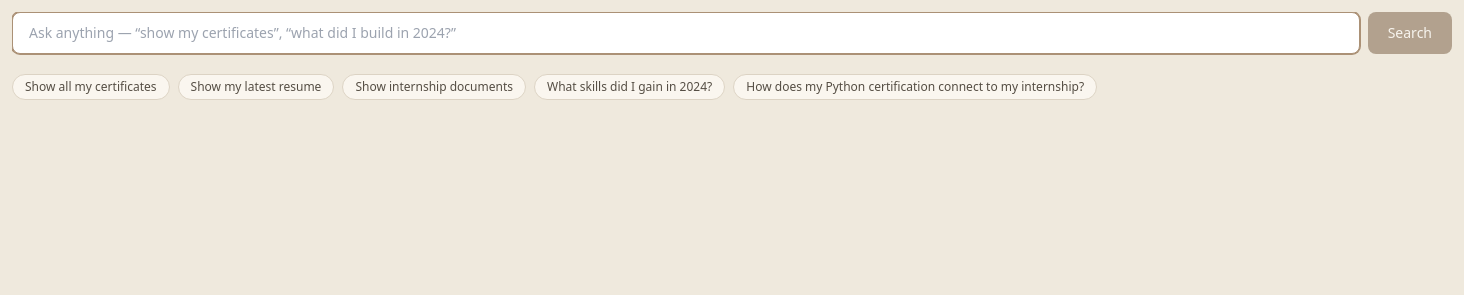
it: Search Ask AI › offers Ask AI on a non-question query and synthesizes on click
The image size is (1464, 295).
Type "show all my certificates" into the search field. click: {"x": 686, "y": 33}
box: [12,12,1360,54]
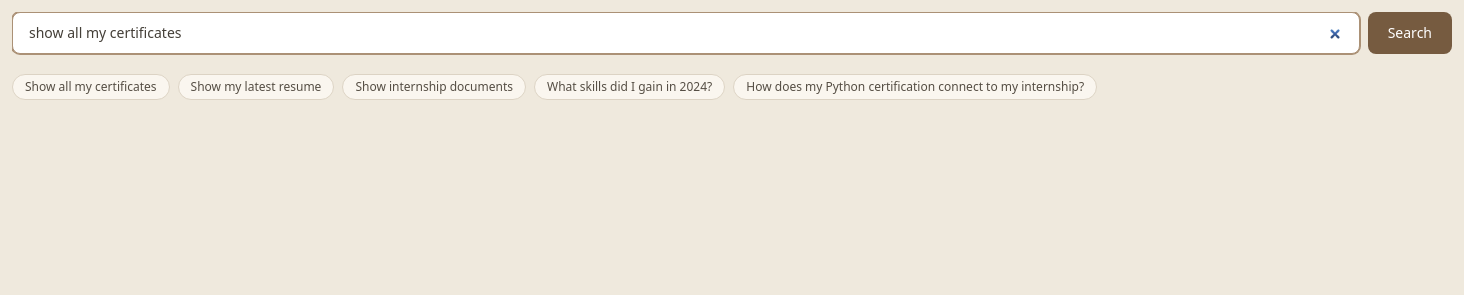
Click the button "Search". click: {"x": 1410, "y": 33}
box: [1368,12,1452,54]
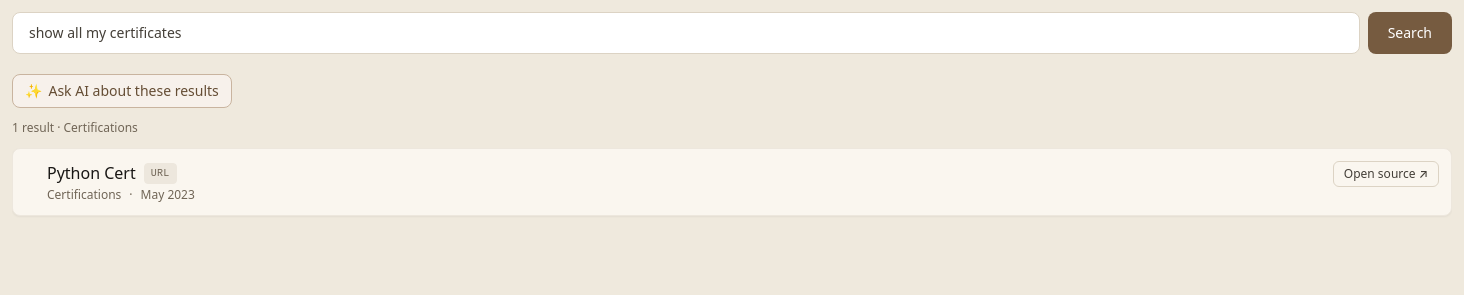
Expected: the text "Python Cert" is shown, [47,161,136,185]
Click the button "✨ Ask AI about these results". click: {"x": 122, "y": 91}
box: [12,74,232,108]
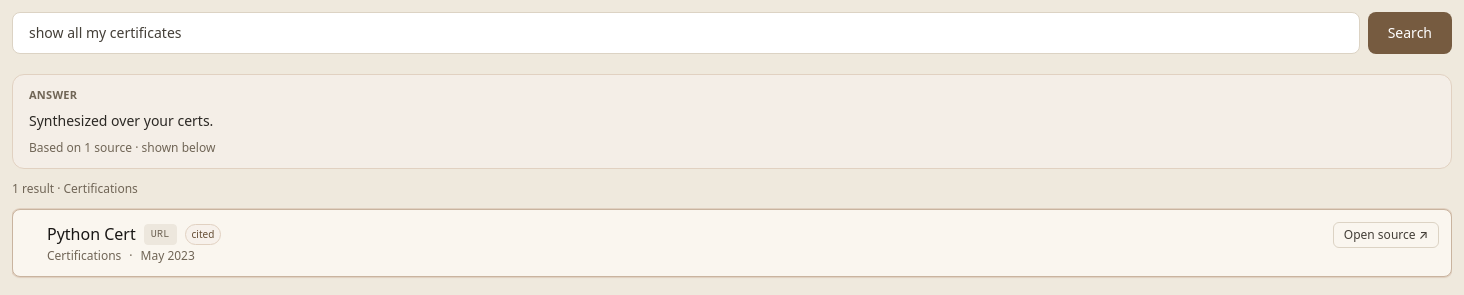
Now the text "Synthesized over your certs." is shown, box [29,110,213,130]
